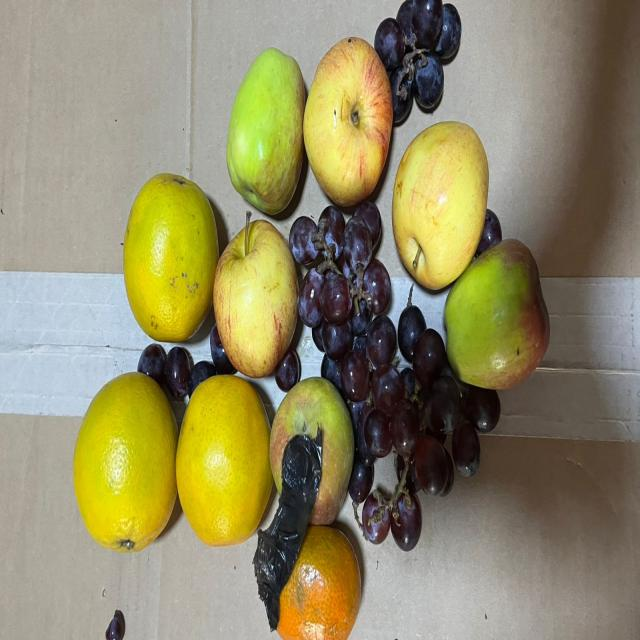bolsa_negra: (247, 427, 320, 626)
